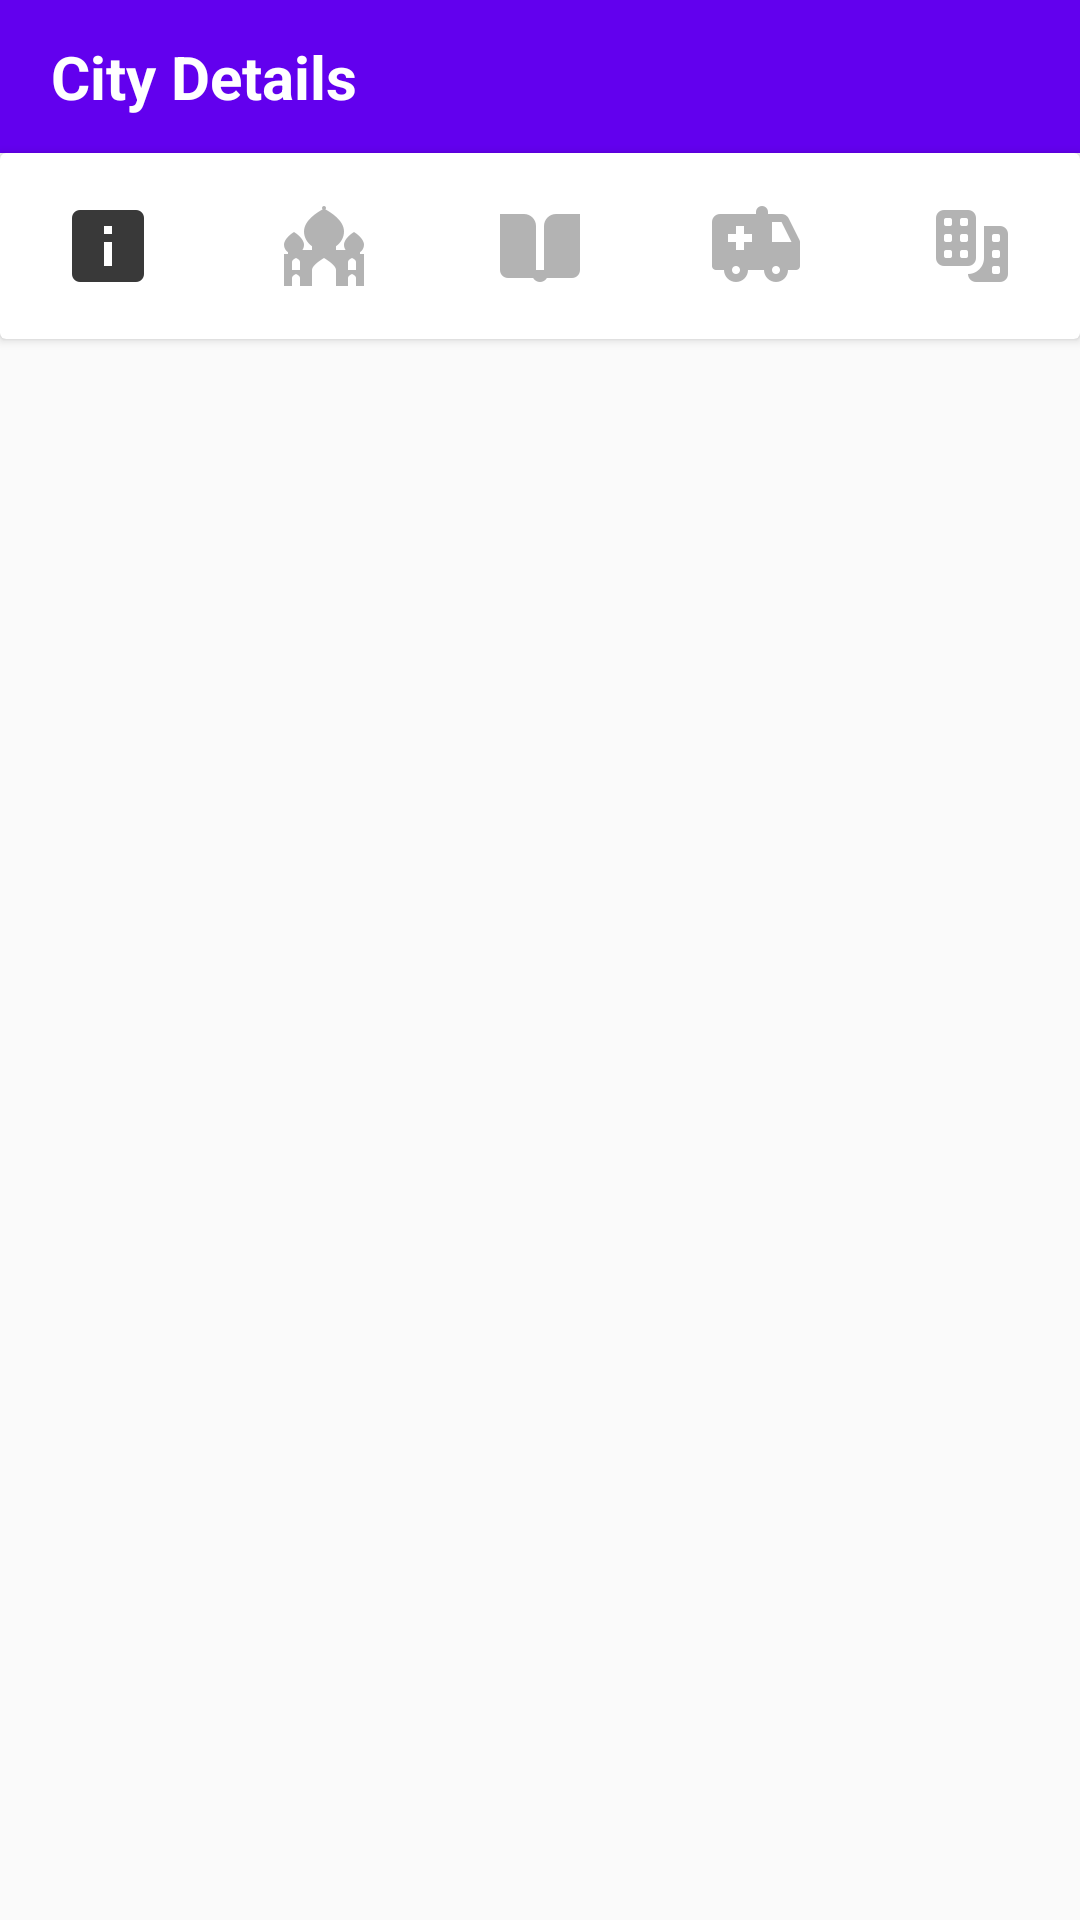

Named icons in this screenshot (1080px x 1920px) and their centers, point (x, y):
about: point (108, 246)
education: point (540, 248)
hospital: point (756, 244)
hotel: point (972, 246)
places: point (324, 246)
